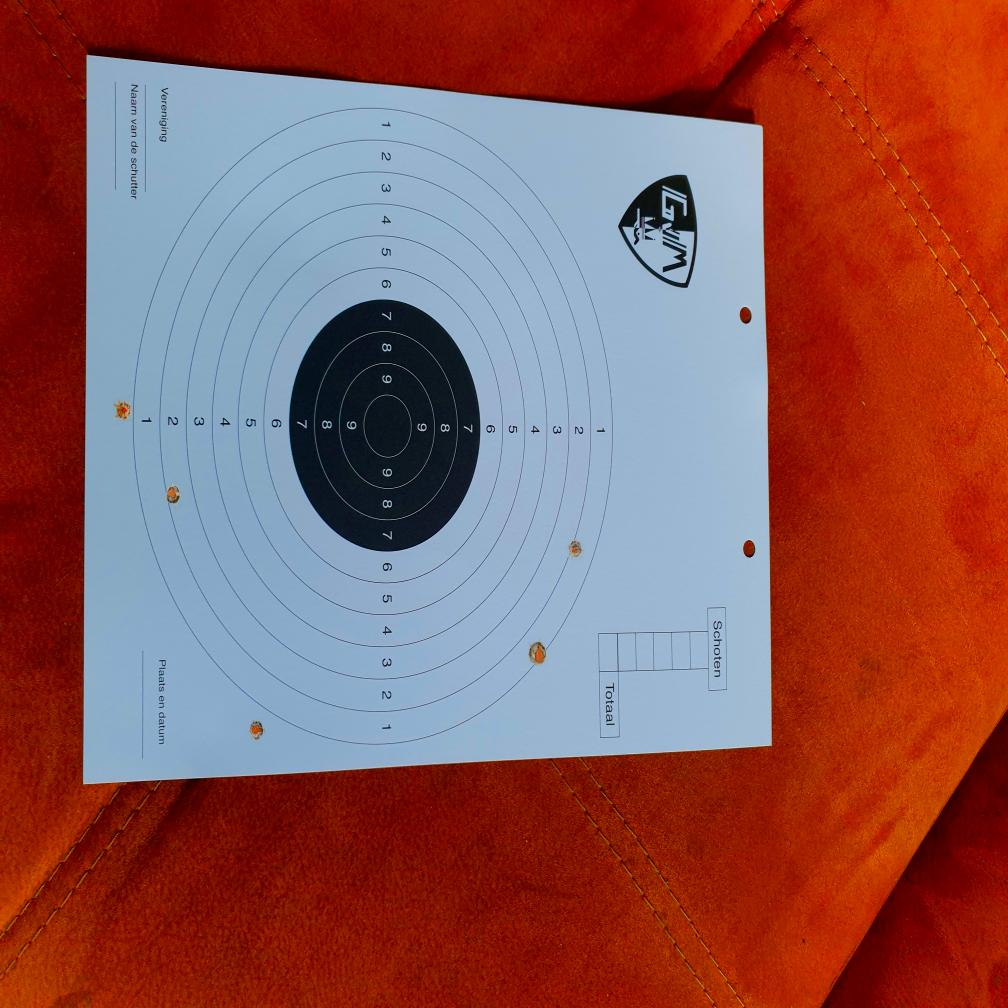0: (114, 399, 132, 420), (249, 721, 263, 740)
1: (530, 641, 546, 666)
2: (165, 483, 181, 507), (568, 541, 582, 560)
Target: (133, 108, 612, 752)
black_contour: (289, 299, 480, 553)
